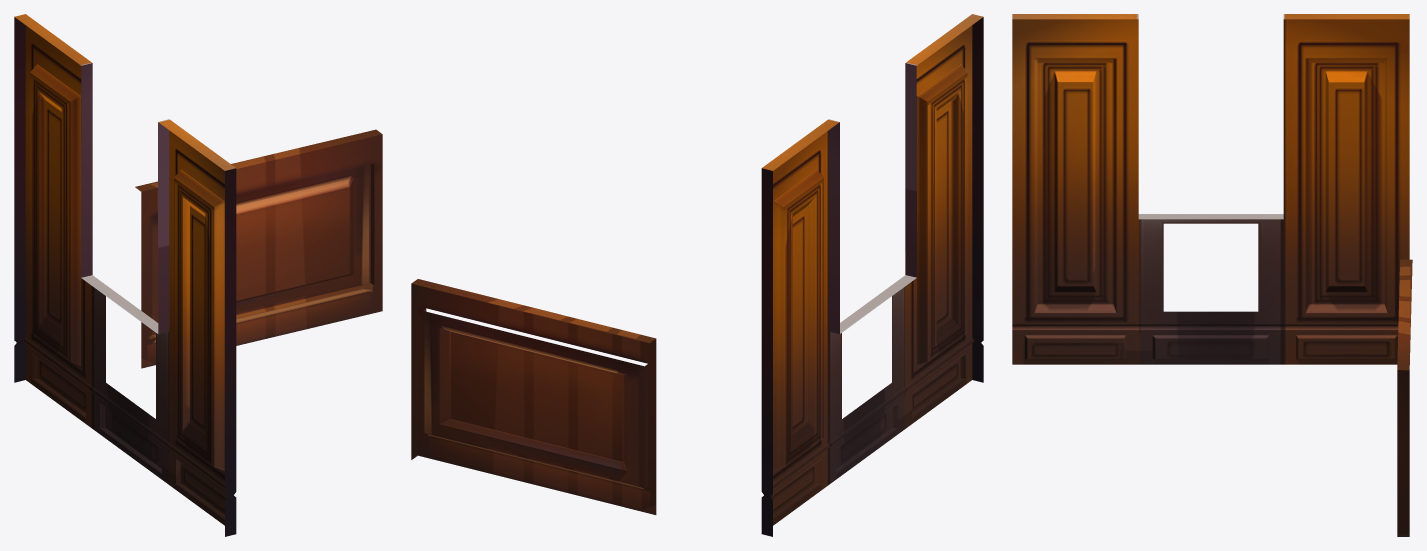
Rendered from Tx_props_wall_deco_63.fbx.
3 views of the same model, side by side, from view 1: azimuth 30°, elevation 25°; view 2: azimuth 150°, elevation 25°; view 3: azimuth 270°, elevation 25° (orthographic). The views are drawn at different scales.
Parts seen in each view (by area): view 1: Tx_props_wall_deco; view 2: Tx_props_wall_deco; view 3: Tx_props_wall_deco.
Part boxes in pixels (bbox=[...]): Tx_props_wall_deco: bbox=[14, 14, 382, 536]; Tx_props_wall_deco: bbox=[411, 14, 983, 536]; Tx_props_wall_deco: bbox=[1012, 14, 1412, 536].
Size of the model in its own units: 29.14 by 29.07 by 29.58.
